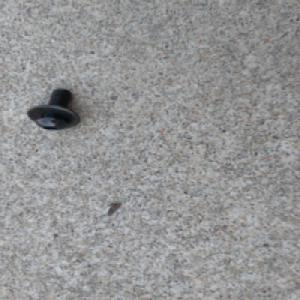BoltWasher: (24, 87, 84, 131)
